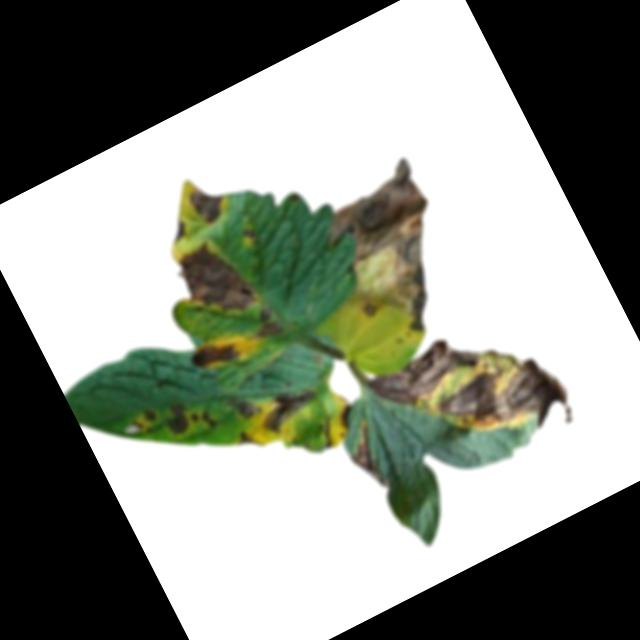Early_blight: (305, 154, 481, 354), (417, 341, 580, 480), (362, 318, 502, 421), (167, 229, 263, 334), (253, 376, 325, 438), (339, 421, 398, 496), (183, 327, 248, 382), (185, 179, 233, 232), (244, 302, 285, 345), (159, 403, 194, 439), (128, 405, 164, 439), (224, 392, 257, 424), (230, 422, 262, 454), (187, 407, 218, 436), (163, 216, 192, 246), (331, 402, 358, 430), (239, 226, 261, 252)
